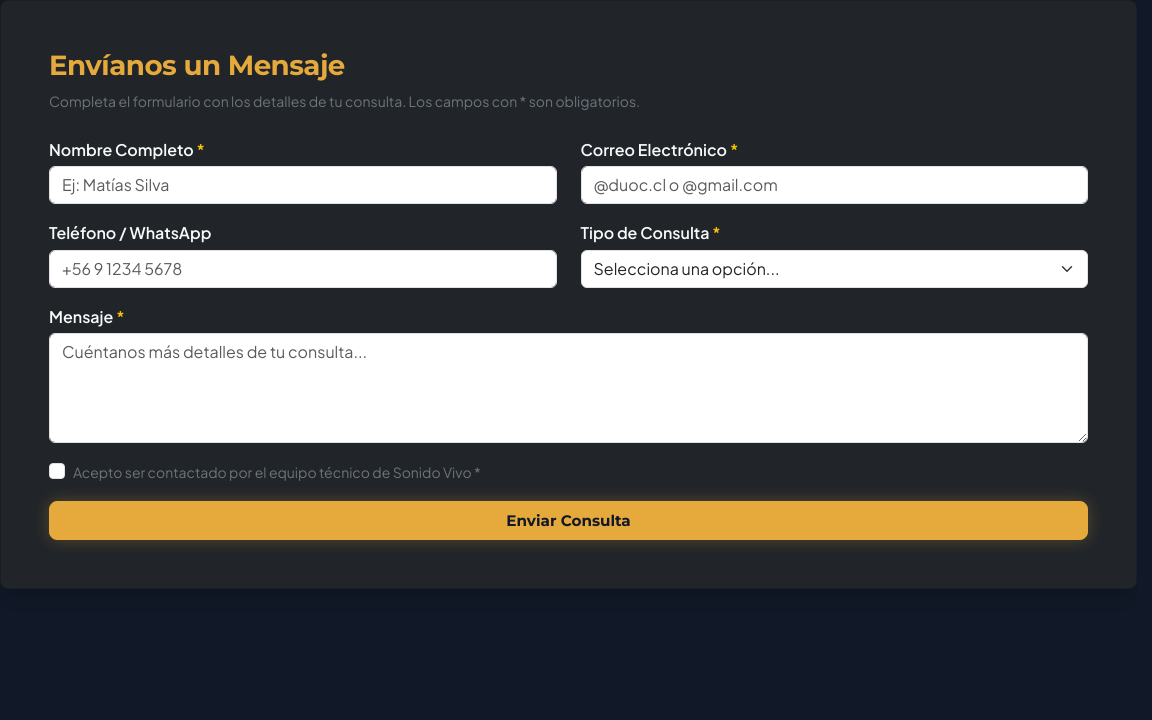
Test: Formulario de contacto › muestra los errores al enviar el formulario vacío
This screenshot has width=1152, height=720.
Click the button "Enviar Consulta": (568, 521) [49,501,1088,540]
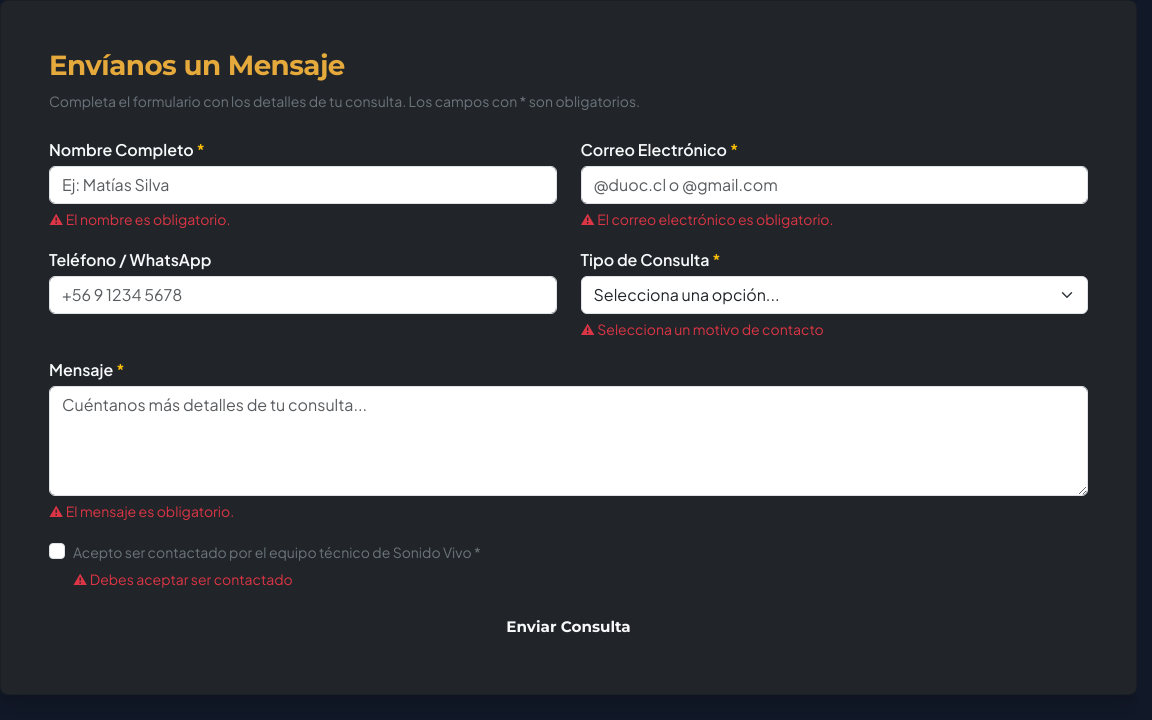
Result: the text "⚠ El nombre es obligatorio." is shown at [49,210,230,228]
Result: the text "⚠ El correo electrónico es obligatorio." is shown at [580,210,834,228]
Result: the text "⚠ Selecciona un motivo de contacto" is shown at [580,320,824,338]
